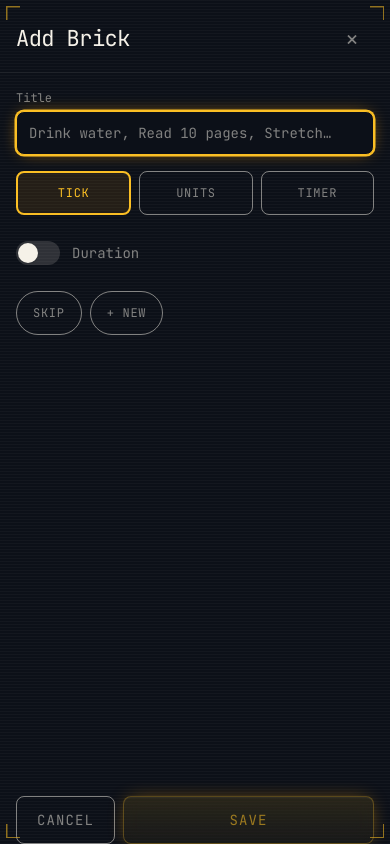
Test case: C-m3-013: AddBrickSheet Title required + autofocus › Save becomes enabled when Title has non-blank text
Type "brick A" into the field labelled "Title" at (195,133), box [16,111,374,155]
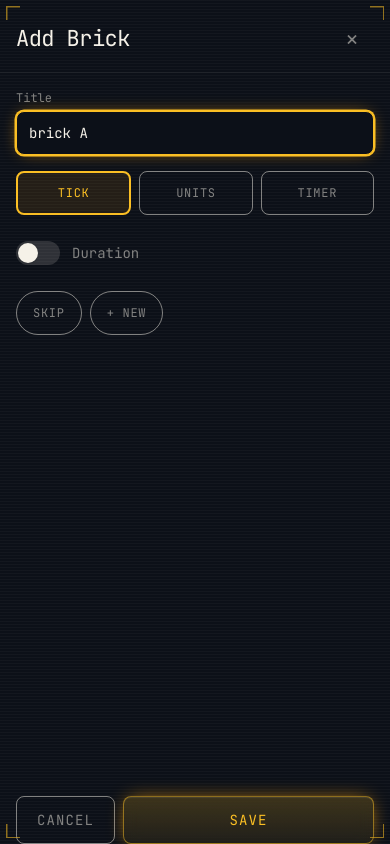
Expected: the button "Save" is enabled, [123,796,374,843]
